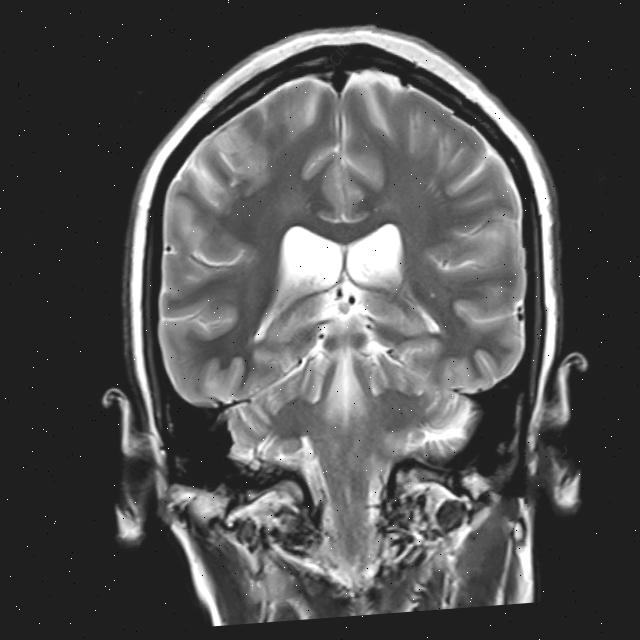NoTumor: (116, 13, 565, 502)
